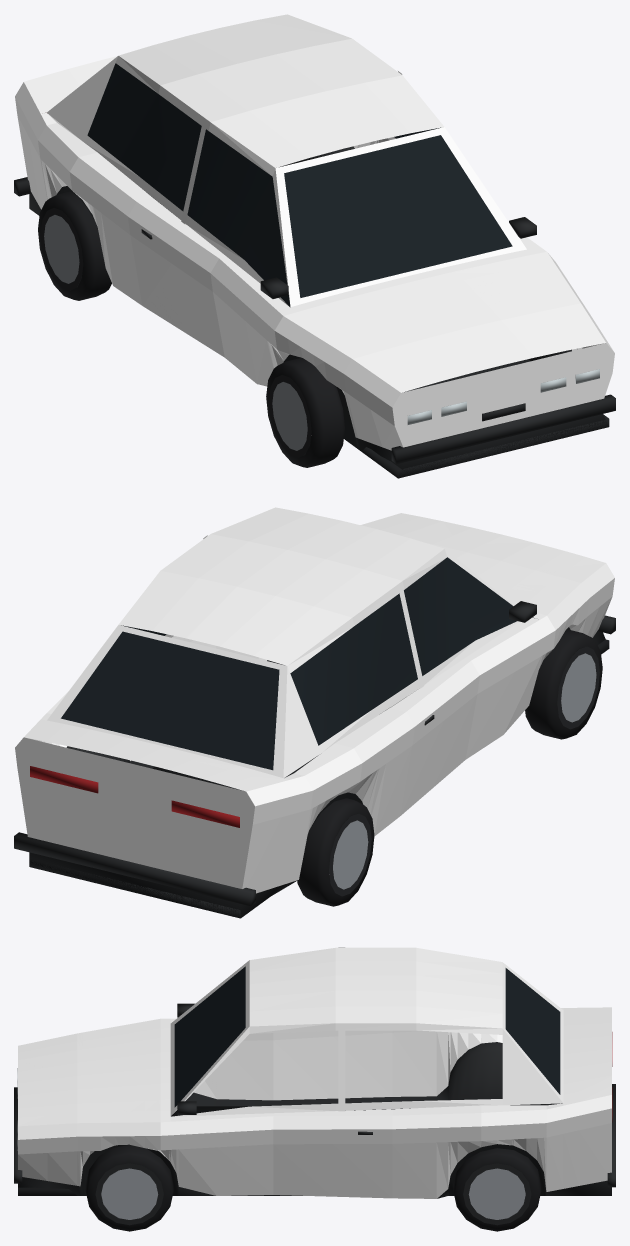
The model's file is saulieu_pereira.glb.
3 views of the same model, one above another, from view 1: azimuth 30°, elevation 25°; view 2: azimuth 150°, elevation 25°; view 3: azimuth 270°, elevation 25° (orthographic). The views are drawn at different scales.
Visible parts, largest first — view 1: Body_Paint, Body_Details, Mount_FrontLeft_Wheel_Details, Mount_RearLeft_Wheel_Details; view 2: Body_Paint, Body_Details, Mount_RearLeft_Wheel_Details, Mount_FrontLeft_Wheel_Details; view 3: Body_Paint, Body_Details, Mount_FrontRight_Wheel_Details, Mount_RearRight_Wheel_Details.
Part boxes in pixels (x1,y1,x2,y2): Body_Paint: [15, 14, 614, 450]; Body_Details: [14, 63, 615, 478]; Mount_FrontLeft_Wheel_Details: [266, 357, 344, 467]; Mount_RearLeft_Wheel_Details: [38, 191, 111, 300]; Body_Paint: [15, 507, 614, 893]; Body_Details: [14, 557, 615, 918]; Mount_RearLeft_Wheel_Details: [297, 798, 374, 906]; Mount_FrontLeft_Wheel_Details: [525, 629, 602, 739]; Body_Paint: [18, 947, 611, 1198]; Body_Details: [14, 966, 615, 1198]; Mount_FrontRight_Wheel_Details: [85, 1145, 173, 1231]; Mount_RearRight_Wheel_Details: [453, 1148, 541, 1231].
Size of the model in its own units: 1.83 by 1.44 by 4.05.
2 materials, 1 textured.
